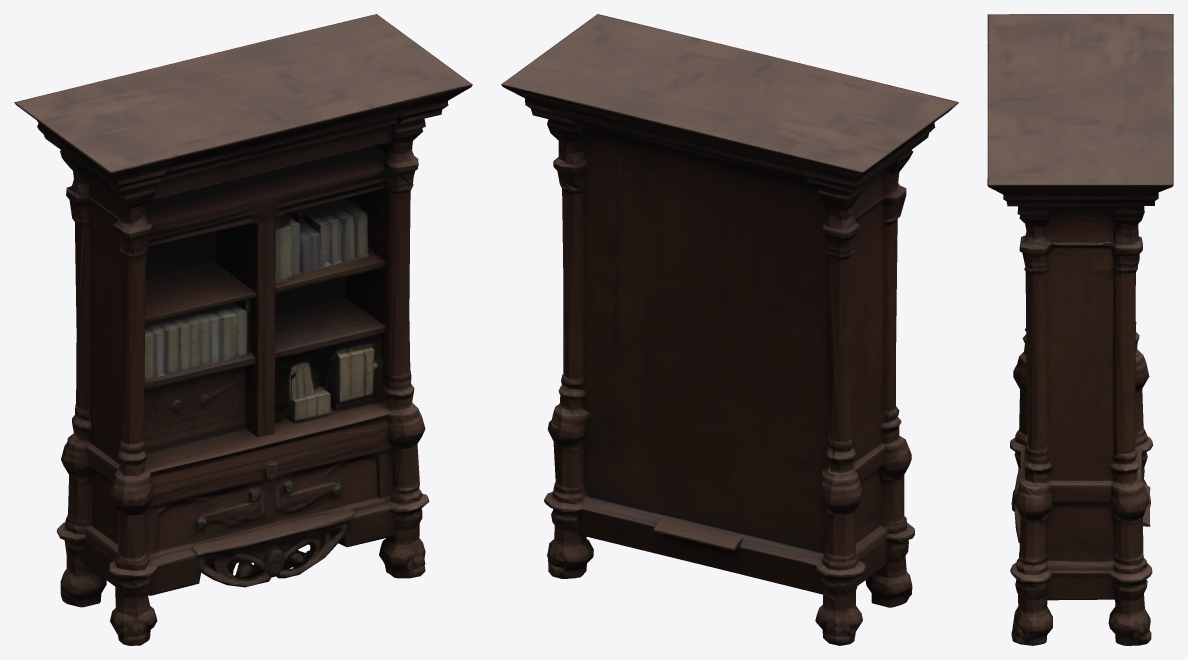
The model's file is bookshelf.glb.
3 renders of one model, left to right at view 1: azimuth 30°, elevation 25°; view 2: azimuth 150°, elevation 25°; view 3: azimuth 270°, elevation 25°, orthographic. The views are drawn at different scales.
Parts seen in each view (by area): view 1: geometry_0; view 2: geometry_0; view 3: geometry_0.
Part boxes in pixels (x1,y1,x2,y2): geometry_0: (14, 14, 472, 645); geometry_0: (501, 14, 958, 645); geometry_0: (987, 14, 1173, 645).
Bounding box in the file's own units: 0.7681 × 1 × 0.3538.
1 material, 1 textured.
